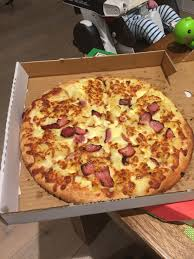pizza: (23, 81, 192, 197)
